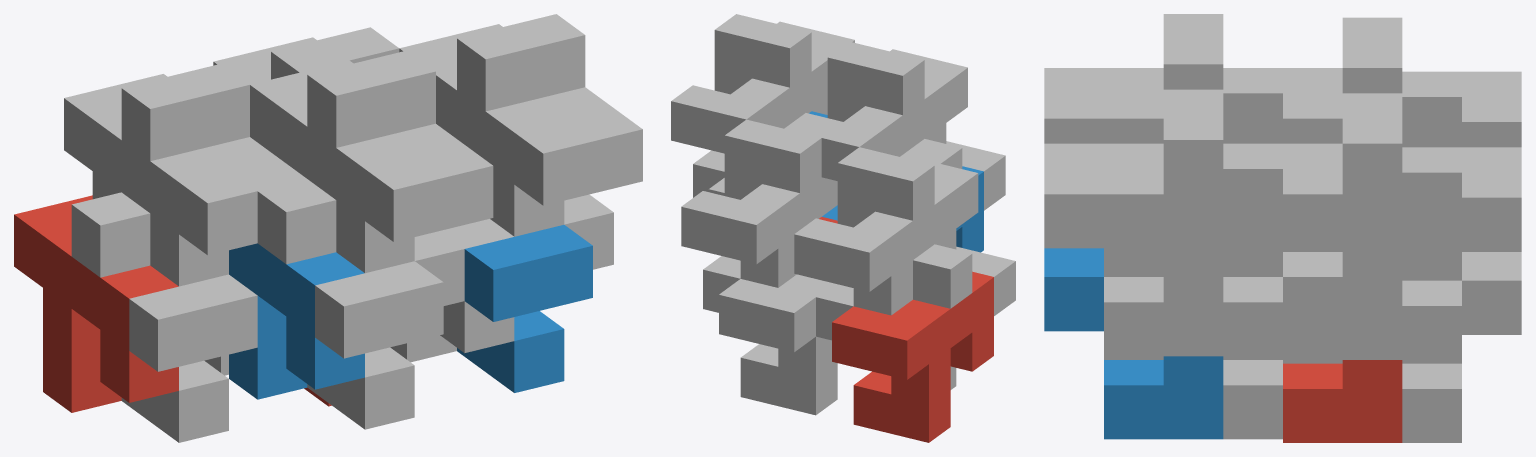
Rendered from tiling.obj.
3 renders of one model, left to right at view 1: azimuth 30°, elevation 25°; view 2: azimuth 150°, elevation 25°; view 3: azimuth 270°, elevation 25°, orthographic. The views are drawn at different scales.
Visible parts, largest first — view 1: copy_2_domain_4, copy_2_domain_8, copy_2_domain_1, copy_2_domain_2, copy_1_domain_1, copy_2_domain_3, copy_2_domain_6, copy_1_domain_3, copy_1_domain_2, copy_1_domain_4, copy_1_domain_8, copy_1_domain_6 (+2 smaller); view 2: copy_1_domain_1, copy_1_domain_3, copy_1_domain_5, copy_1_domain_7, copy_1_domain_8, copy_2_domain_3, copy_2_domain_4, copy_2_domain_8, copy_1_domain_4, copy_2_domain_7, copy_2_domain_1, copy_2_domain_2 (+1 smaller); view 3: copy_2_domain_8, copy_1_domain_8, copy_1_domain_7, copy_2_domain_7, copy_2_domain_6, copy_2_domain_4, copy_1_domain_4, copy_1_domain_5, copy_1_domain_6, copy_2_domain_5, copy_1_domain_3, copy_2_domain_3.
Part boxes in pixels (<box>): copy_2_domain_4: <box>307,50,493,305</box>; copy_2_domain_8: <box>457,14,642,269</box>; copy_2_domain_1: <box>71,192,257,442</box>; copy_2_domain_2: <box>257,179,443,429</box>; copy_1_domain_1: <box>14,195,178,412</box>; copy_2_domain_3: <box>121,64,306,255</box>; copy_2_domain_6: <box>457,225,592,392</box>; copy_1_domain_3: <box>64,74,228,286</box>; copy_1_domain_2: <box>229,243,364,399</box>; copy_1_domain_4: <box>250,60,414,273</box>; copy_1_domain_8: <box>399,24,564,236</box>; copy_1_domain_6: <box>390,219,514,362</box>; copy_1_domain_1: <box>832,271,993,442</box>; copy_1_domain_3: <box>794,184,956,340</box>; copy_1_domain_5: <box>719,274,837,415</box>; copy_1_domain_7: <box>681,177,837,312</box>; copy_1_domain_8: <box>671,50,830,197</box>; copy_2_domain_3: <box>837,147,978,227</box>; copy_2_domain_4: <box>827,41,967,122</box>; copy_2_domain_8: <box>714,14,854,94</box>; copy_1_domain_4: <box>784,78,946,180</box>; copy_2_domain_7: <box>724,119,821,199</box>; copy_2_domain_1: <box>913,244,1015,389</box>; copy_2_domain_2: <box>903,139,1005,210</box>; copy_2_domain_8: <box>1044,89,1223,356</box>; copy_1_domain_8: <box>1104,143,1342,356</box>; copy_1_domain_7: <box>1402,147,1521,359</box>; copy_2_domain_7: <box>1283,93,1402,359</box>; copy_2_domain_6: <box>1044,248,1223,439</box>; copy_2_domain_4: <box>1044,14,1223,143</box>; copy_1_domain_4: <box>1104,68,1342,143</box>; copy_1_domain_5: <box>1283,252,1521,442</box>; copy_1_domain_6: <box>1104,252,1342,439</box>; copy_2_domain_5: <box>1283,360,1402,442</box>; copy_1_domain_3: <box>1402,71,1521,147</box>; copy_2_domain_3: <box>1342,17,1402,93</box>.
Size of the model in its own units: 8 by 7 by 8.
